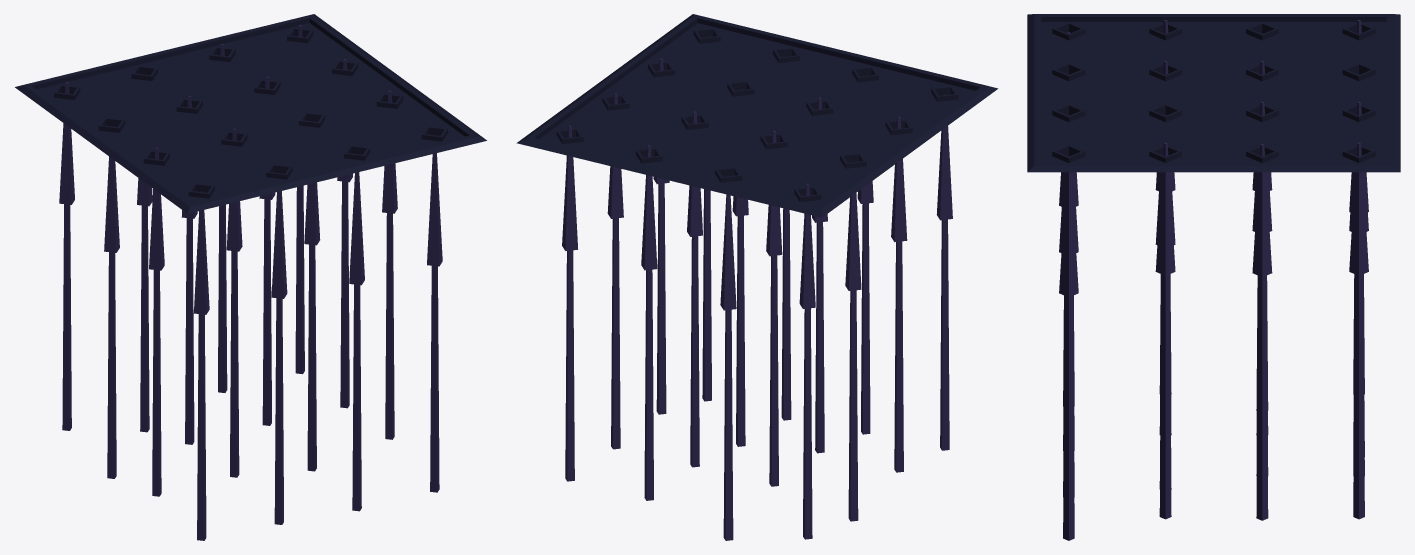
The model's file is c_spear.glb.
The picture shows the model from 3 angles, left to right: view 1: azimuth 30°, elevation 25°; view 2: azimuth 150°, elevation 25°; view 3: azimuth 270°, elevation 25°; orthographic projection. The views are drawn at different scales.
Visible parts, largest first — view 1: C_SpearBase, C_Spear; view 2: C_SpearBase, C_Spear; view 3: C_SpearBase, C_Spear.
Part boxes in pixels (x1,y1,x2,y2): C_SpearBase: [15, 14, 486, 213]; C_Spear: [59, 25, 442, 540]; C_SpearBase: [516, 14, 998, 217]; C_Spear: [562, 58, 952, 540]; C_SpearBase: [1027, 14, 1400, 172]; C_Spear: [1059, 19, 1368, 540].
Bounding box in the file's own units: 1.91 × 2.24 × 1.91.
1 material, 1 textured.
